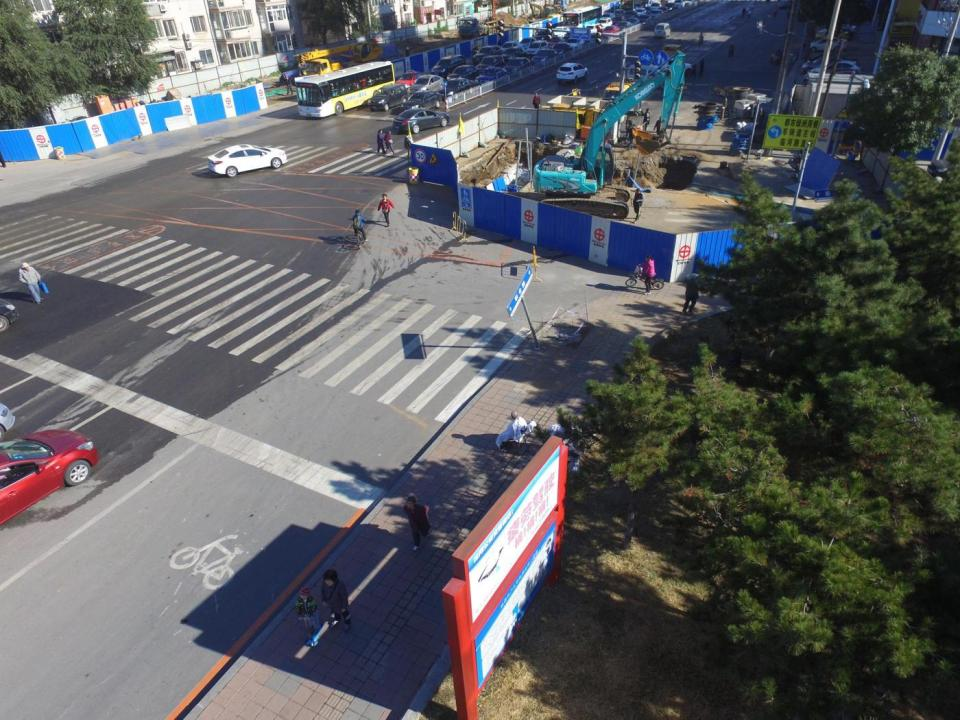bus: (294, 60, 397, 118), (563, 6, 603, 30), (618, 0, 654, 13)
car: (0, 422, 110, 532), (204, 140, 291, 180), (391, 107, 450, 133), (803, 68, 862, 89), (805, 61, 863, 80), (400, 88, 444, 111), (408, 72, 450, 96), (438, 76, 476, 102), (474, 65, 511, 91), (655, 57, 693, 79), (798, 57, 850, 72), (444, 63, 481, 84), (396, 68, 428, 92), (555, 61, 588, 83), (474, 54, 506, 76), (808, 51, 858, 65), (472, 44, 503, 66), (806, 34, 848, 50), (503, 56, 530, 76), (532, 48, 560, 66), (822, 21, 858, 35), (504, 47, 528, 64), (527, 40, 551, 57), (500, 38, 522, 56), (565, 36, 590, 51), (815, 28, 849, 39), (533, 26, 556, 42), (821, 25, 854, 35), (555, 41, 575, 57), (548, 34, 566, 49), (519, 36, 538, 50), (552, 25, 571, 39), (586, 23, 604, 36), (604, 25, 623, 37), (615, 21, 635, 32), (600, 10, 616, 23), (626, 16, 641, 29), (637, 14, 651, 25), (650, 9, 664, 20), (612, 7, 626, 18), (650, 2, 664, 12), (612, 17, 627, 26), (658, 6, 670, 17), (624, 9, 636, 20), (636, 8, 649, 17), (664, 2, 675, 12)
truck: (460, 14, 508, 38), (543, 0, 568, 14)
van: (367, 83, 409, 112), (625, 63, 671, 89), (432, 54, 470, 78), (654, 22, 674, 40), (596, 17, 614, 28), (674, 0, 689, 10)
